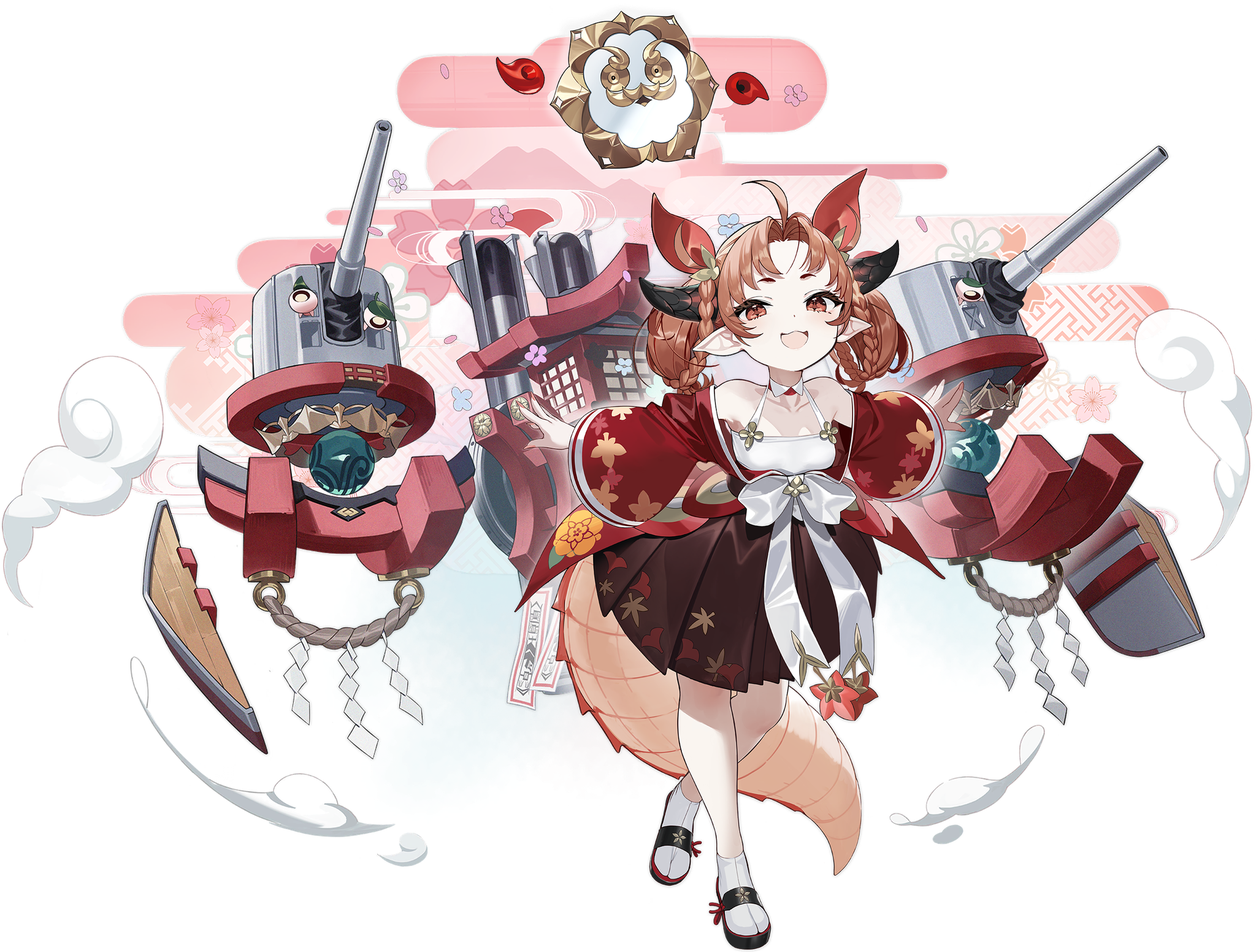person: (480, 148, 1238, 951)
